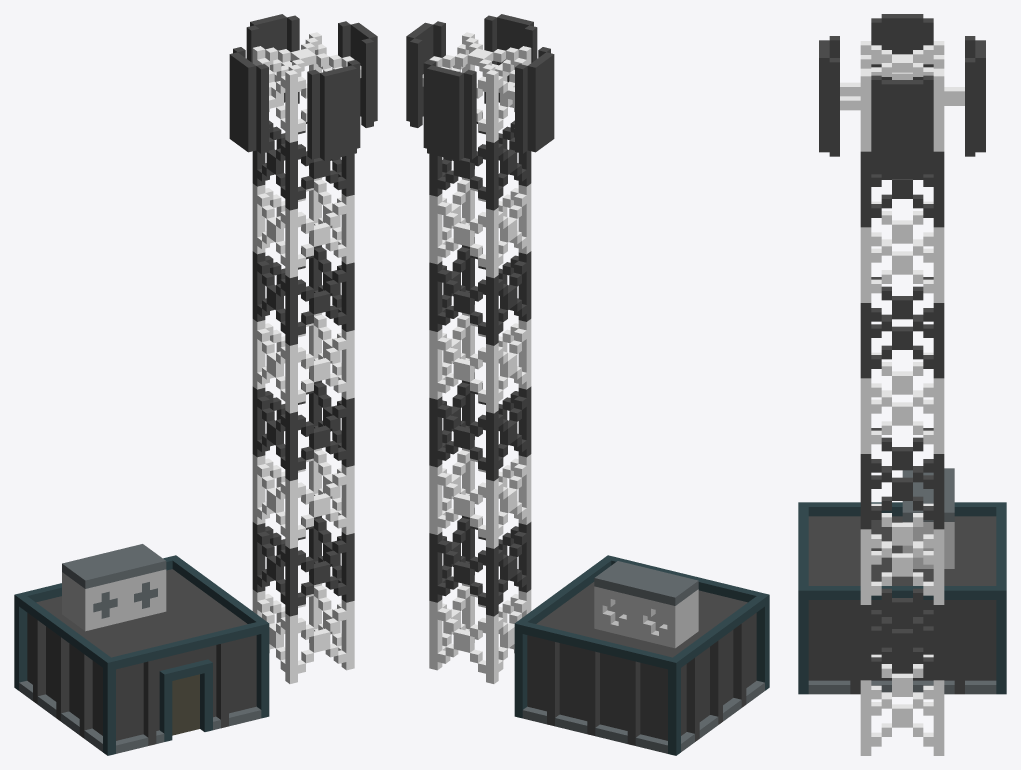
Rendered from tower.obj.
3 renders of one model, left to right at view 1: azimuth 30°, elevation 25°; view 2: azimuth 150°, elevation 25°; view 3: azimuth 270°, elevation 25°, orthographic. The views are drawn at different scales.
Size of the model in its own units: 3.8 by 7.3 by 2.
1 material, 1 textured.
